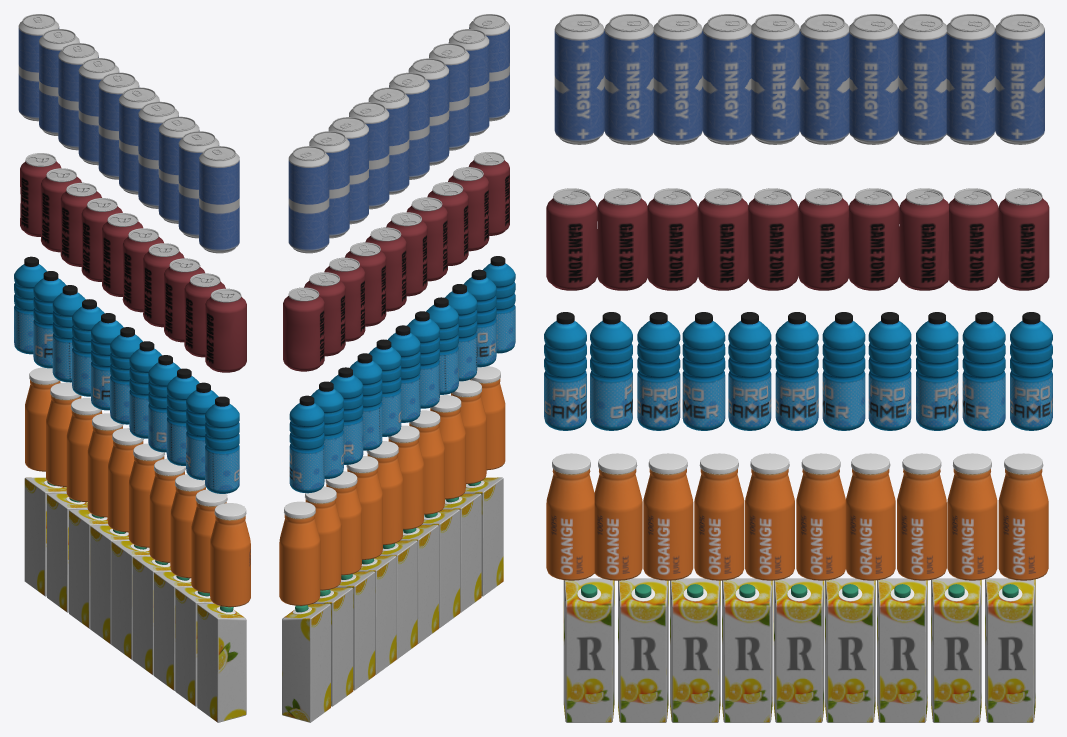
The model's file is SM_FridgeDrinks_02.fbx.
The picture shows the model from 3 angles, left to right: view 1: azimuth 30°, elevation 25°; view 2: azimuth 150°, elevation 25°; view 3: azimuth 270°, elevation 25°; orthographic projection. The views are drawn at different scales.
Parts seen in each view (by area): view 1: SM_FridgeDrinks_02_LOD0; view 2: SM_FridgeDrinks_02_LOD0; view 3: SM_FridgeDrinks_02_LOD0.
Part boxes in pixels (<box>): SM_FridgeDrinks_02_LOD0: <box>14,14,250,722</box>; SM_FridgeDrinks_02_LOD0: <box>279,14,515,722</box>; SM_FridgeDrinks_02_LOD0: <box>544,14,1052,722</box>.
Size of the model in its own units: 8.46 by 70.3 by 105.
Materials: 1 (1 with a texture image).
